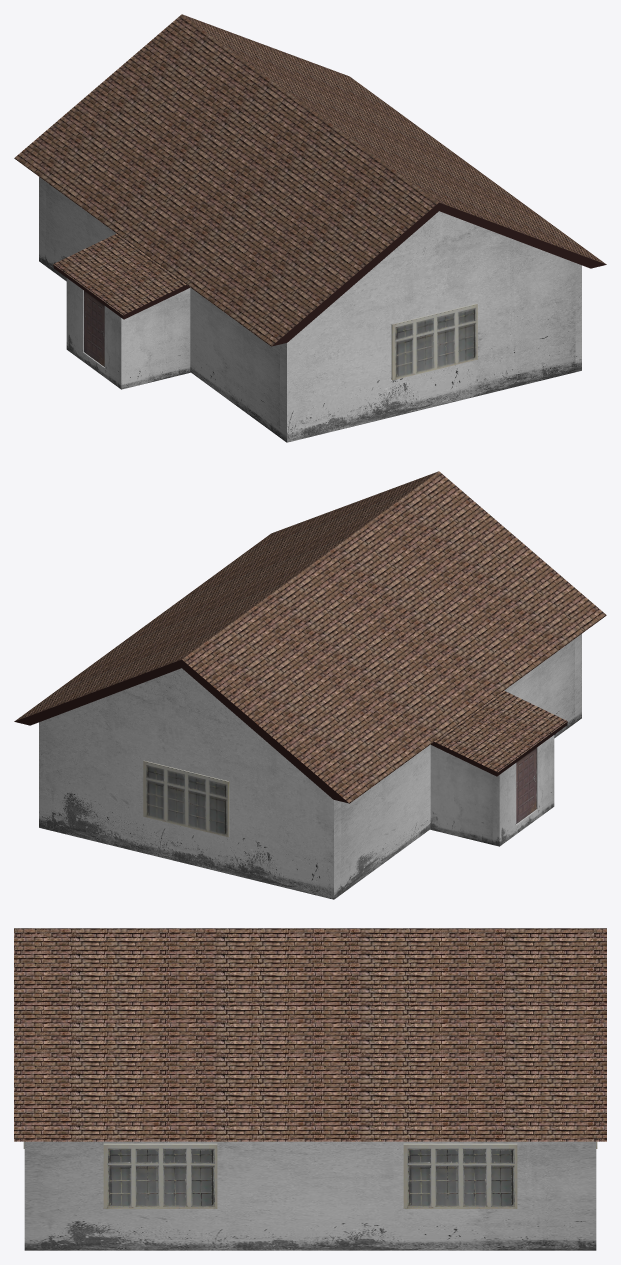
Rendered from House.fbx.
The picture shows the model from 3 angles, top to bottom: view 1: azimuth 30°, elevation 25°; view 2: azimuth 150°, elevation 25°; view 3: azimuth 270°, elevation 25°; orthographic projection. The views are drawn at different scales.
Visible parts, largest first — view 1: Roof, Walls, Subroof, Windows, Door; view 2: Roof, Walls, Subroof, Windows, Door; view 3: Roof, Walls, Windows.
Boxes of the visible parts, left/top/right/bottom form: Roof: left=14, top=14, right=606, bottom=346; Walls: left=39, top=177, right=581, bottom=442; Subroof: left=53, top=233, right=189, bottom=319; Windows: left=391, top=303, right=477, bottom=380; Door: left=84, top=290, right=104, bottom=366; Roof: left=14, top=471, right=606, bottom=803; Walls: left=39, top=634, right=581, bottom=899; Subroof: left=431, top=690, right=567, bottom=776; Windows: left=143, top=760, right=229, bottom=837; Door: left=516, top=747, right=536, bottom=823; Roof: left=14, top=928, right=606, bottom=1141; Walls: left=24, top=1141, right=596, bottom=1250; Windows: left=23, top=1141, right=597, bottom=1208.
Size of the model in its own units: 2682 by 1368 by 3062.
